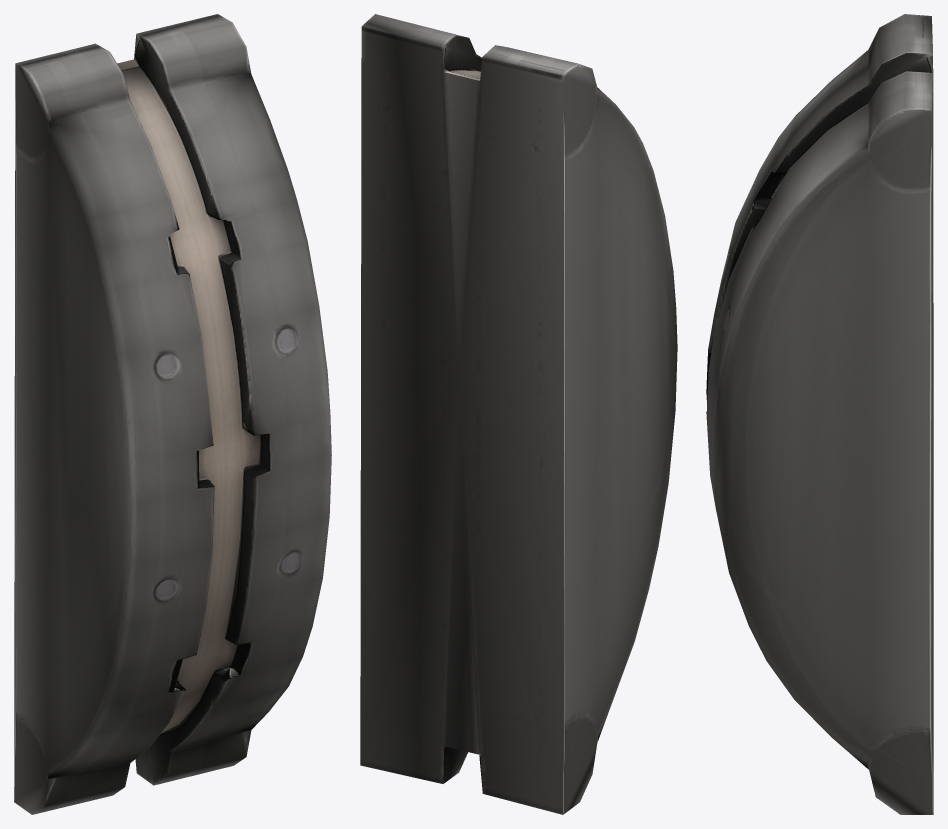
File: SupportMural.fbx
3 renders of one model, left to right at view 1: azimuth 30°, elevation 25°; view 2: azimuth 150°, elevation 25°; view 3: azimuth 270°, elevation 25°, orthographic. The views are drawn at different scales.
Visible parts, largest first — view 1: Low_SupportMural:RetopoGroup1; view 2: Low_SupportMural:RetopoGroup1; view 3: Low_SupportMural:RetopoGroup1.
Part boxes in pixels (bbox=[...]): Low_SupportMural:RetopoGroup1: bbox=[14, 14, 331, 814]; Low_SupportMural:RetopoGroup1: bbox=[360, 14, 677, 814]; Low_SupportMural:RetopoGroup1: bbox=[706, 14, 933, 814].
Bounding box in the file's own units: 36.05 × 125 × 36.37.
